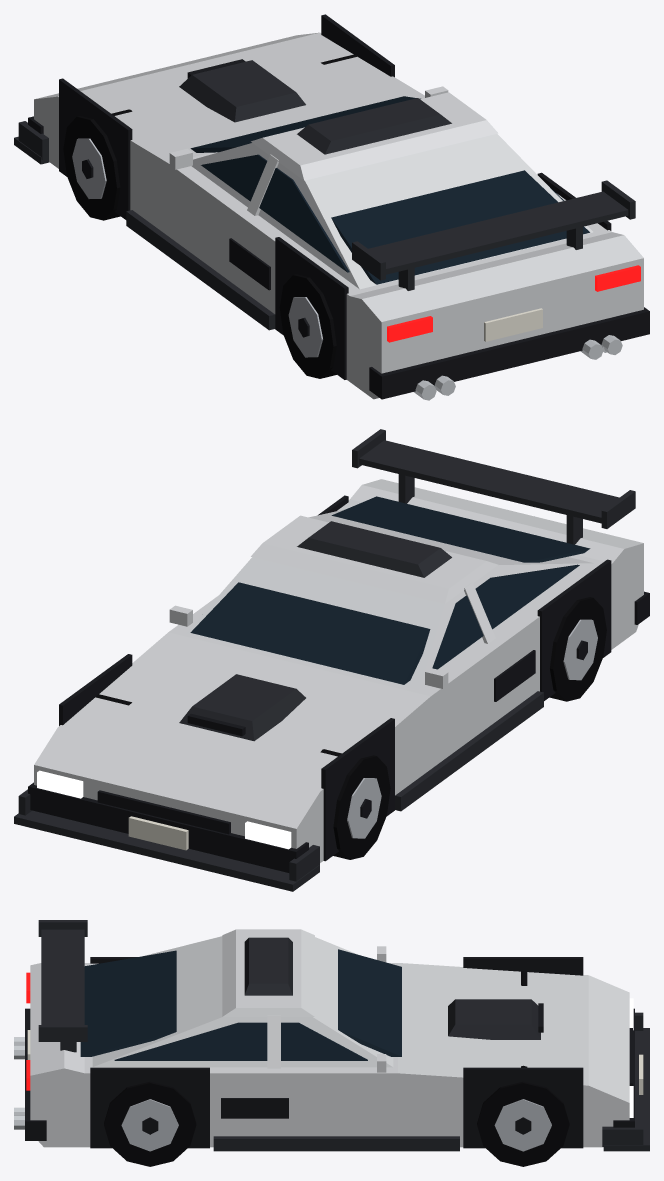
Rendered from car_sports.glb.
The picture shows the model from 3 angles, top to bottom: view 1: azimuth 30°, elevation 25°; view 2: azimuth 150°, elevation 25°; view 3: azimuth 270°, elevation 25°; orthographic projection. The views are drawn at different scales.
Parts seen in each view (by area): view 1: car_sports__body, car_sports__mod_spoiler, car_sports__mod_hood, car_sports__wheel_fl, car_sports__wheel_rl, car_sports__mod_roof, car_sports__mod_skirts, car_sports__mod_exhaust, car_sports__mod_bumper; view 2: car_sports__body, car_sports__mod_spoiler, car_sports__mod_bumper, car_sports__mod_hood, car_sports__wheel_fl, car_sports__wheel_rl, car_sports__mod_roof, car_sports__mod_skirts; view 3: car_sports__body, car_sports__wheel_fr, car_sports__wheel_rr, car_sports__mod_spoiler, car_sports__mod_skirts, car_sports__mod_hood, car_sports__mod_roof, car_sports__mod_bumper, car_sports__mod_exhaust.
Boxes of the visible parts, x1,y1,x2,y2 form: car_sports__body: [28, 14, 649, 399]; car_sports__mod_spoiler: [352, 180, 635, 290]; car_sports__mod_hood: [179, 59, 305, 122]; car_sports__wheel_fl: [63, 109, 132, 220]; car_sports__wheel_rl: [279, 274, 336, 378]; car_sports__mod_roof: [297, 98, 451, 154]; car_sports__mod_skirts: [126, 210, 275, 330]; car_sports__mod_exhaust: [414, 335, 622, 400]; car_sports__mod_bumper: [14, 121, 49, 164]; car_sports__body: [28, 479, 649, 872]; car_sports__mod_spoiler: [352, 429, 635, 544]; car_sports__mod_bumper: [14, 789, 319, 891]; car_sports__mod_hood: [179, 674, 305, 741]; car_sports__wheel_fl: [320, 749, 390, 859]; car_sports__wheel_rl: [549, 597, 606, 701]; car_sports__mod_roof: [297, 521, 451, 577]; car_sports__mod_skirts: [395, 691, 543, 811]; car_sports__body: [25, 929, 643, 1148]; car_sports__wheel_fr: [477, 1065, 569, 1166]; car_sports__wheel_rr: [104, 1081, 196, 1166]; car_sports__mod_spoiler: [38, 920, 87, 1052]; car_sports__mod_skirts: [213, 1136, 459, 1151]; car_sports__mod_hood: [448, 999, 543, 1039]; car_sports__mod_roof: [244, 937, 292, 995]; car_sports__mod_bumper: [602, 1012, 649, 1151]; car_sports__mod_exhaust: [14, 1037, 24, 1129].
Size of the model in its own units: 2.05 by 1.2 by 4.67.
